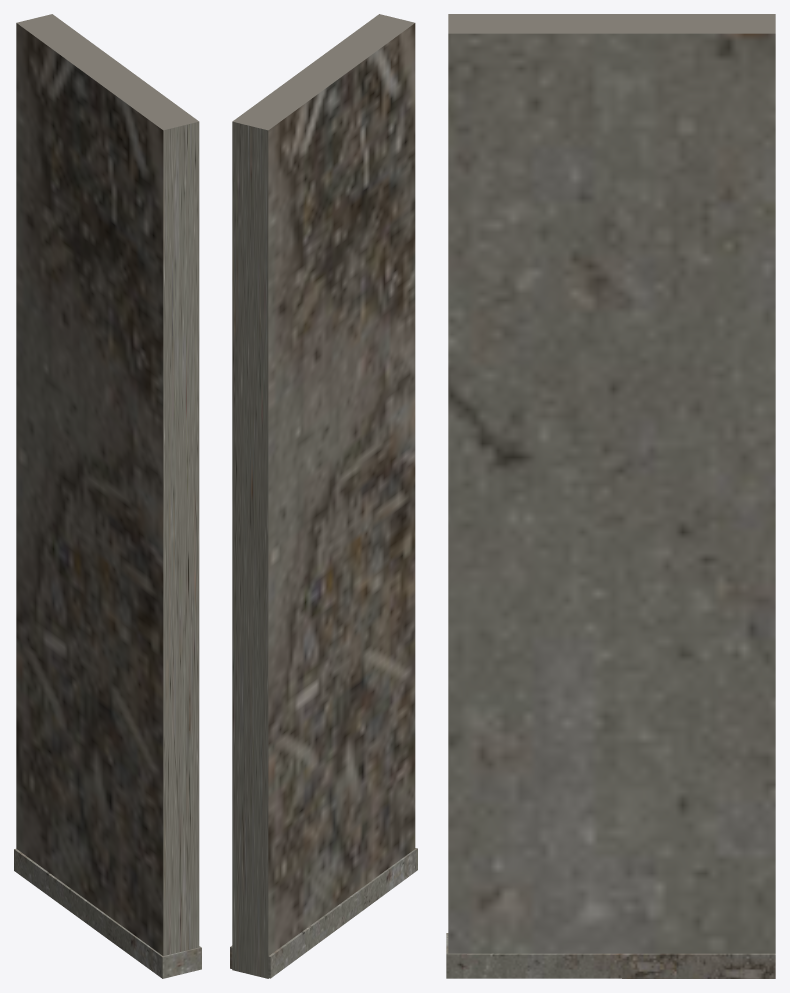
Rendered from block_wall.fbx.
The picture shows the model from 3 angles, left to right: view 1: azimuth 30°, elevation 25°; view 2: azimuth 150°, elevation 25°; view 3: azimuth 270°, elevation 25°; orthographic projection. The views are drawn at different scales.
Parts seen in each view (by area): view 1: Cube, Cube.001; view 2: Cube, Cube.001; view 3: Cube, Cube.001.
Boxes of the visible parts, x1,y1,x2,y2 form: Cube: [16, 14, 199, 955]; Cube.001: [14, 848, 201, 978]; Cube: [232, 14, 415, 978]; Cube.001: [230, 848, 417, 978]; Cube: [448, 14, 775, 953]; Cube.001: [446, 933, 775, 978].
Size of the model in its own units: 39.85 by 796 by 252.
